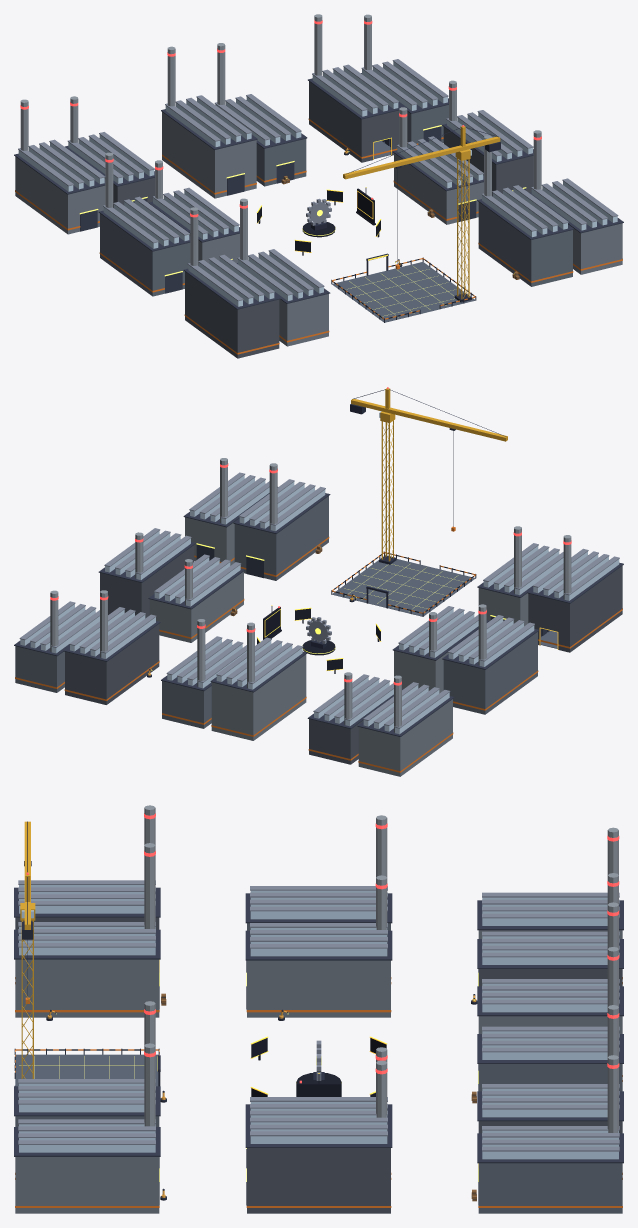
The picture shows the model from 3 angles, top to bottom: view 1: azimuth 30°, elevation 25°; view 2: azimuth 150°, elevation 25°; view 3: azimuth 270°, elevation 25°; orthographic projection. The views are drawn at different scales.
Visible parts, largest first — view 1: district_city_taller.lod1; view 2: district_city_taller.lod1; view 3: district_city_taller.lod1.
Boxes of the visible parts, x1,y1,x2,y2 form: district_city_taller.lod1: [14, 14, 623, 358]; district_city_taller.lod1: [14, 387, 623, 776]; district_city_taller.lod1: [14, 805, 623, 1213].
Size of the model in its own units: 97.4 by 41.97 by 97.4.
